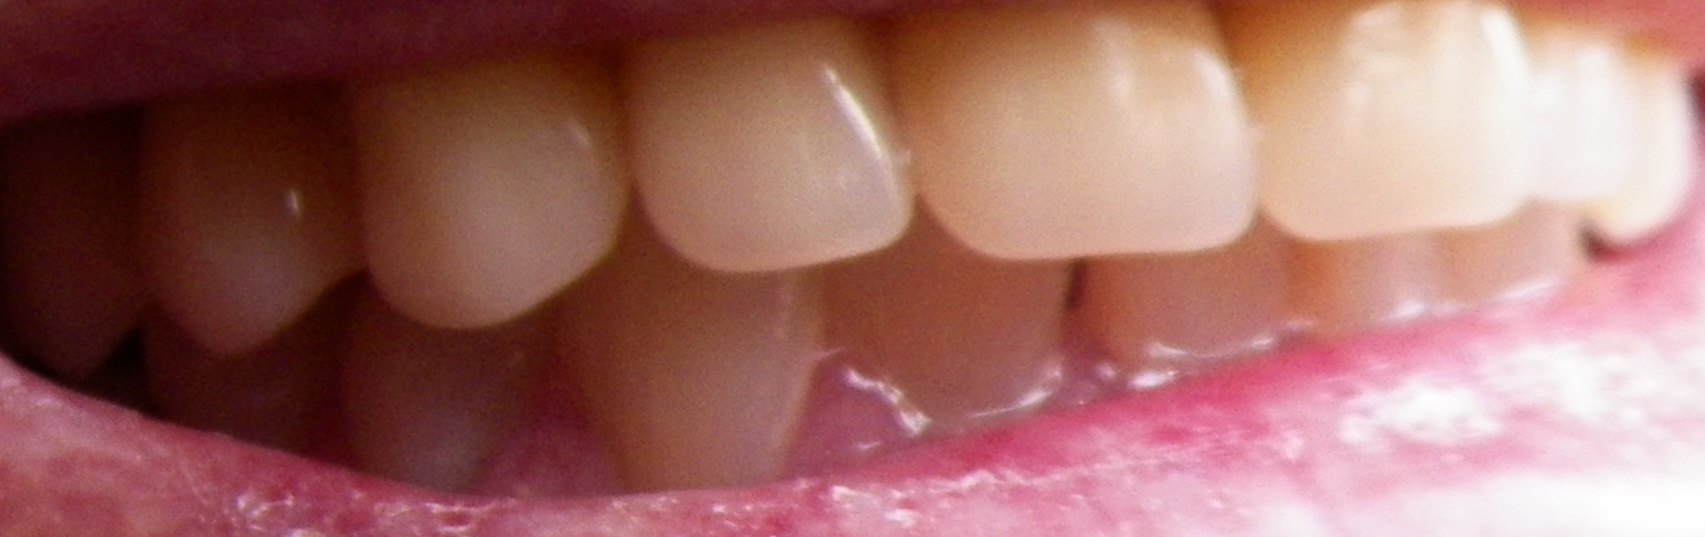boca: (21, 1, 1672, 488)
